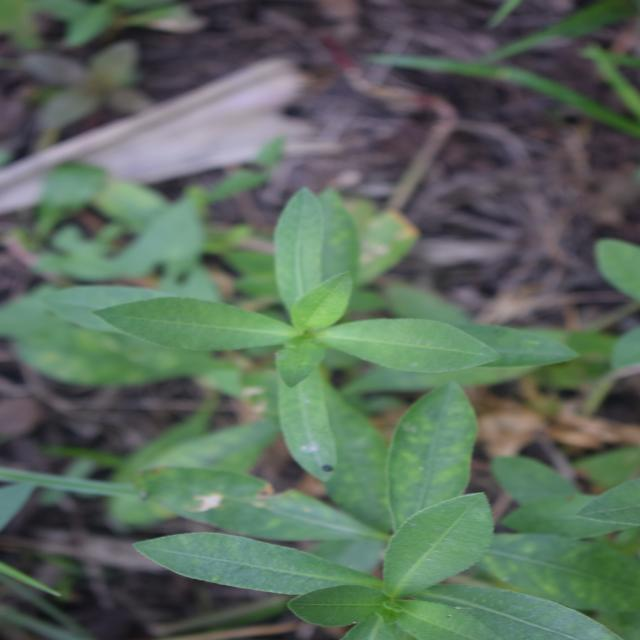Alligatorweed: (160, 82, 430, 494), (0, 161, 194, 591)
